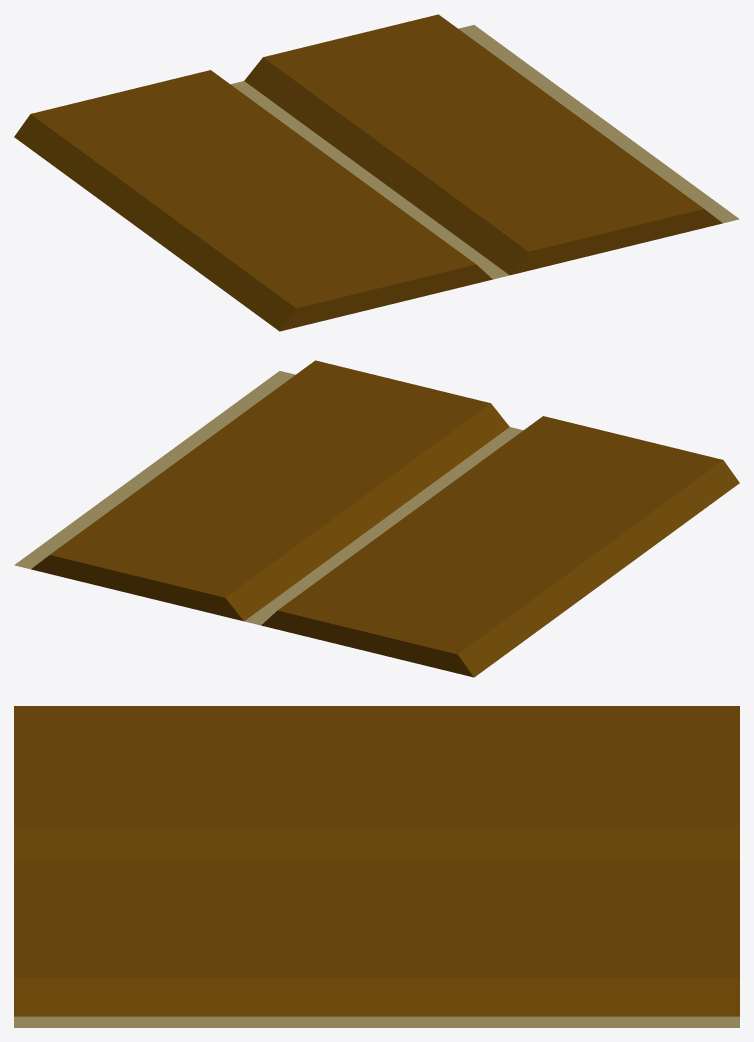
File: PlancheA.fbx
3 views of the same model, one above another, from view 1: azimuth 30°, elevation 25°; view 2: azimuth 150°, elevation 25°; view 3: azimuth 270°, elevation 25° (orthographic). The views are drawn at different scales.
Parts seen in each view (by area): view 1: pPlane1; view 2: pPlane1; view 3: pPlane1.
Boxes of the visible parts, box(x1,y1,x2,y2) form: pPlane1: box(14, 14, 739, 331); pPlane1: box(14, 360, 739, 677); pPlane1: box(14, 706, 739, 1027).
Size of the model in its own units: 1 by 0.0396 by 1.
